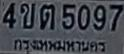0: (77, 4, 89, 29)
4: (2, 1, 15, 27)
5: (62, 3, 75, 28)
7: (109, 3, 122, 30)
9: (93, 4, 105, 30)
A02: (20, 2, 35, 28)
A21: (39, 3, 54, 29)
BKK: (11, 35, 108, 54)
